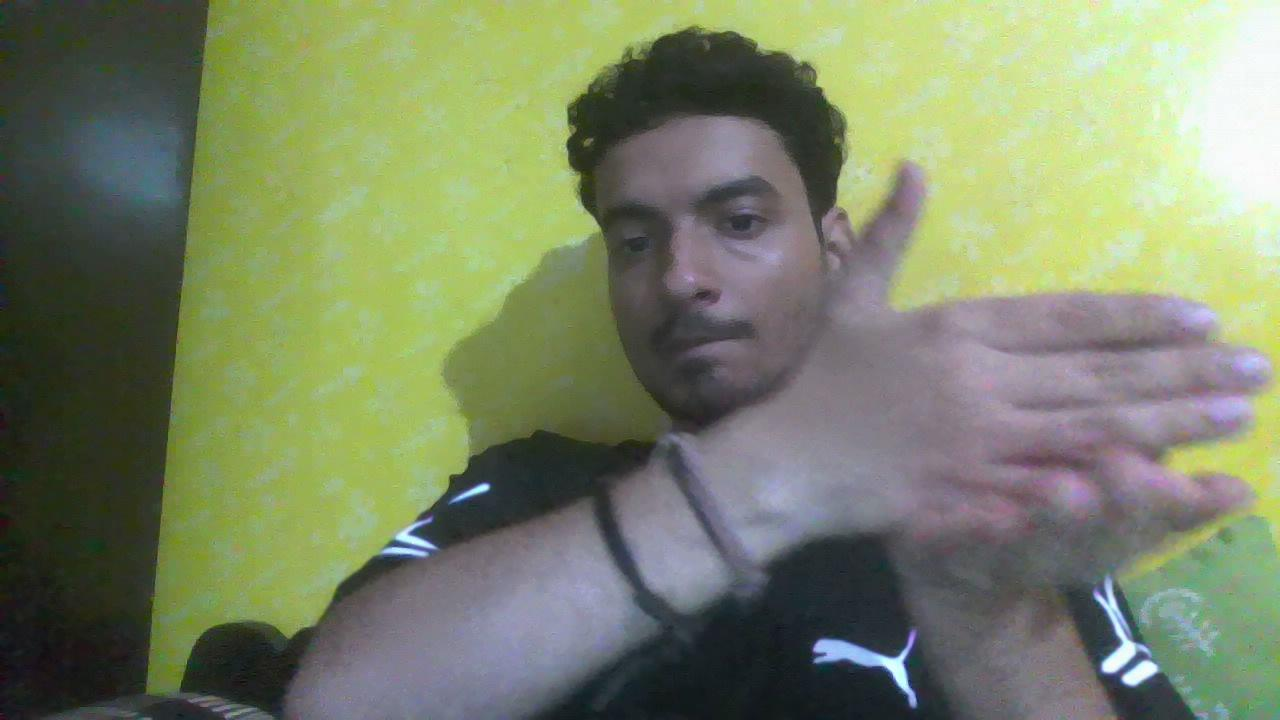stop: (787, 167, 1277, 606)
